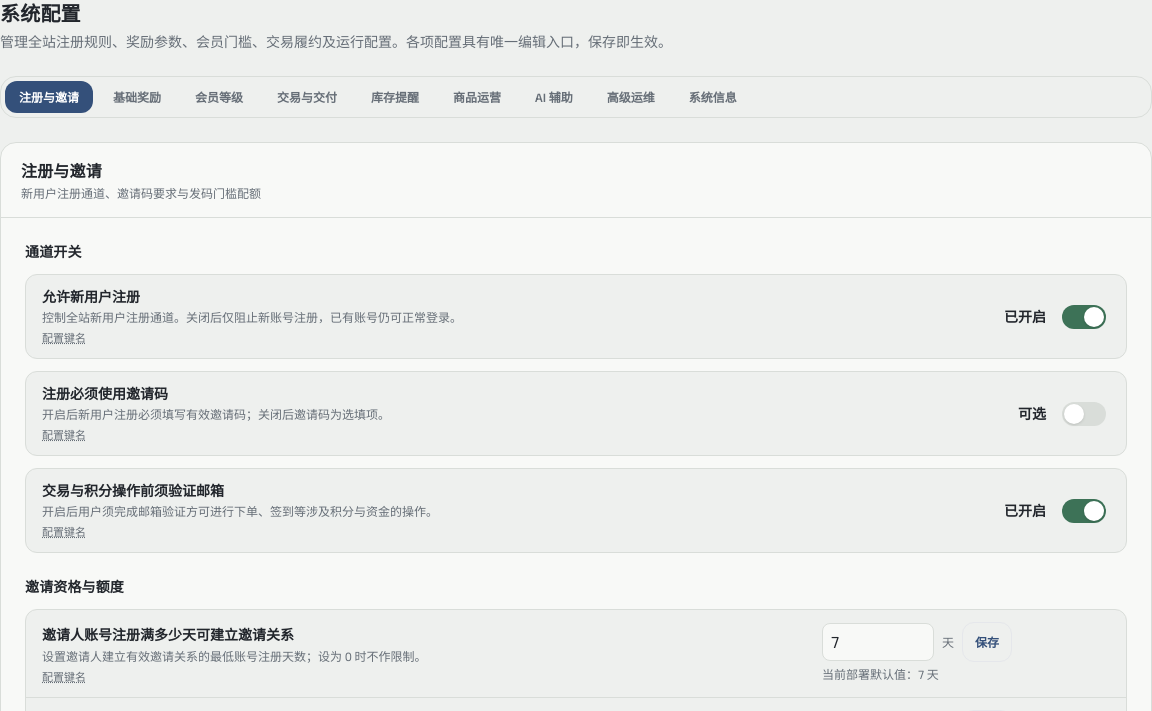
AdminConfigPanel & B2 Specifications › shows system info inside the config panel without filling a missing artifact
Click the tab "系统信息" at (713, 97), box x1=675 y1=81 x2=751 y2=113
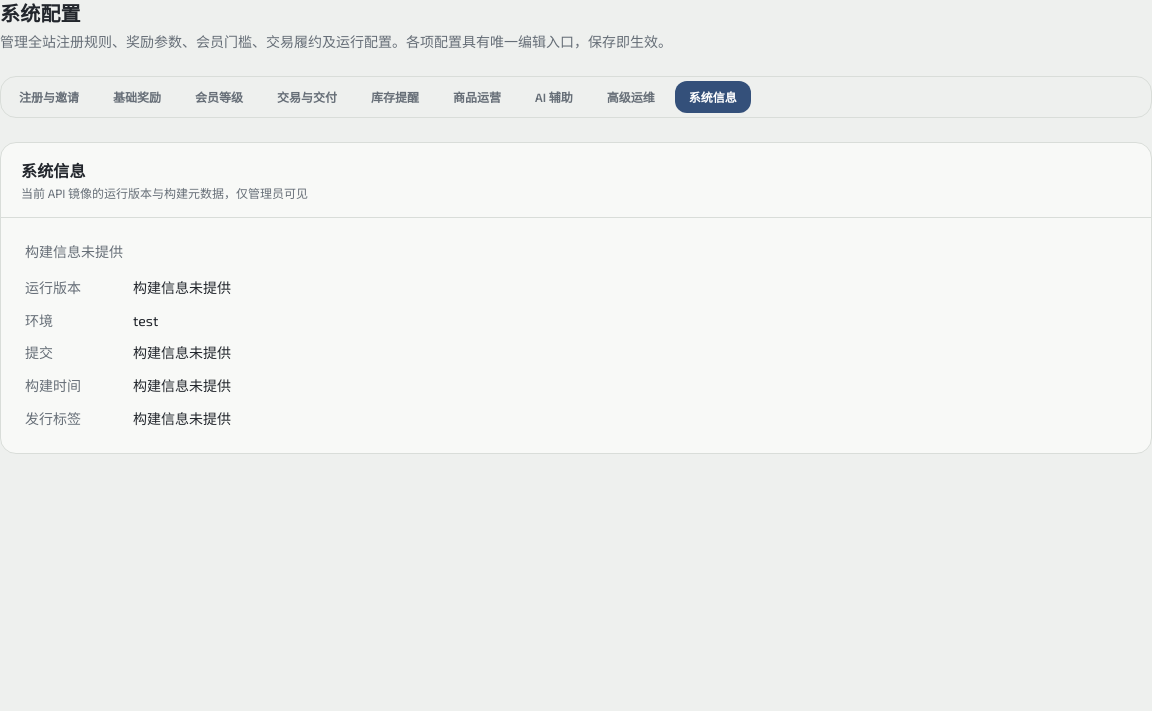
Expected: the element with test id "admin-system-info-panel" is shown, x1=25 y1=243 x2=231 y2=427
Expected: the text with test id "admin-system-info-unavailable" reads "构建信息未提供", x1=25 y1=243 x2=123 y2=260
